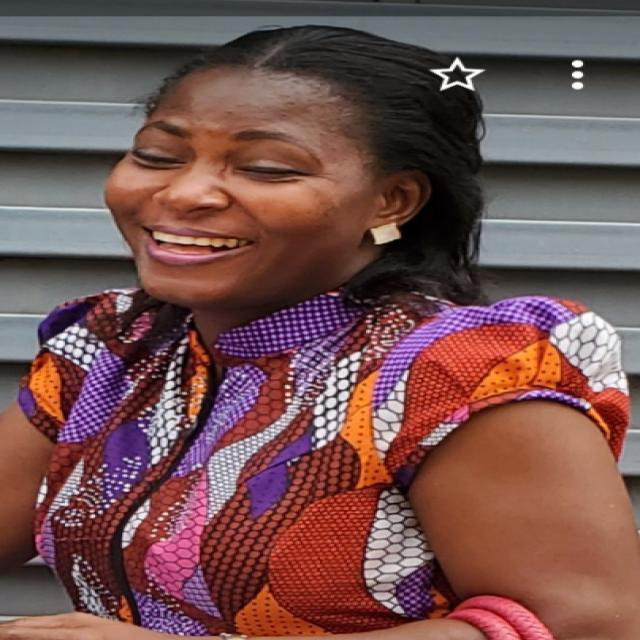happy: (85, 35, 422, 308)
